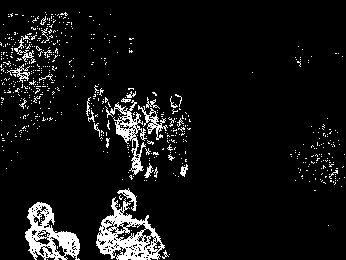person: (95, 186, 172, 260), (25, 200, 82, 260), (112, 84, 143, 179), (139, 91, 168, 181), (164, 93, 191, 179), (85, 82, 115, 154)
